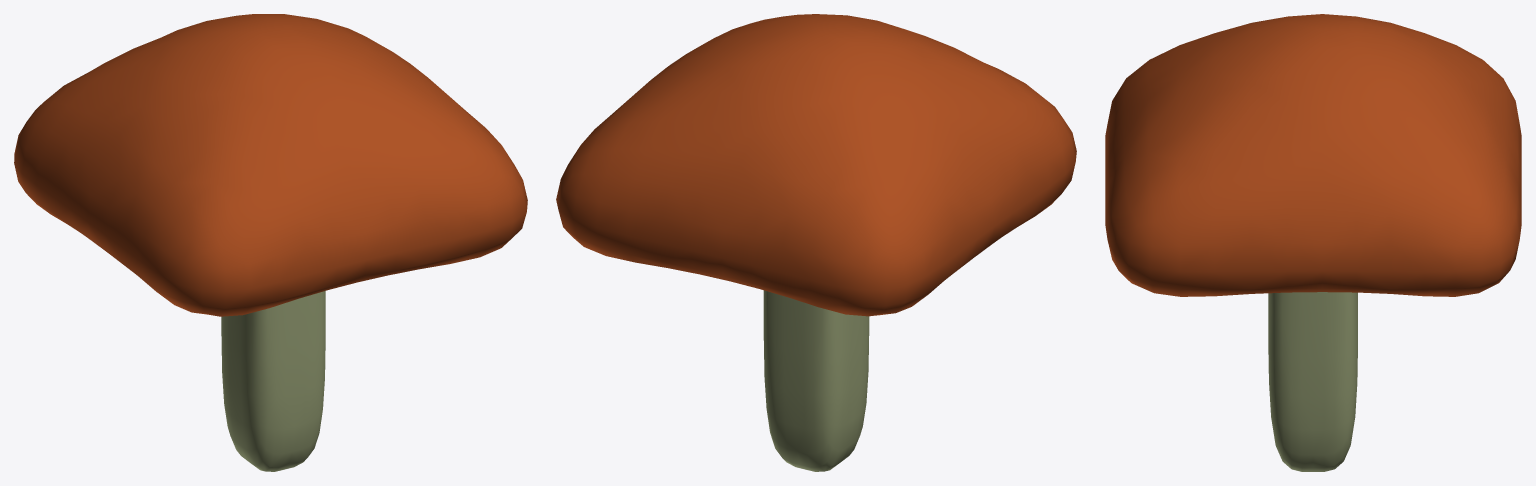
File: Mushrom 1.fbx
3 renders of one model, left to right at view 1: azimuth 30°, elevation 25°; view 2: azimuth 150°, elevation 25°; view 3: azimuth 270°, elevation 25°, orthographic.
Parts seen in each view (by area): view 1: Cube; view 2: Cube; view 3: Cube.
Part boxes in pixels (box(x1,y1,x2,y2)): Cube: box(14, 14, 527, 471); Cube: box(556, 14, 1076, 471); Cube: box(1105, 14, 1521, 471).
Bounding box in the file's own units: 196 × 223 × 196.
